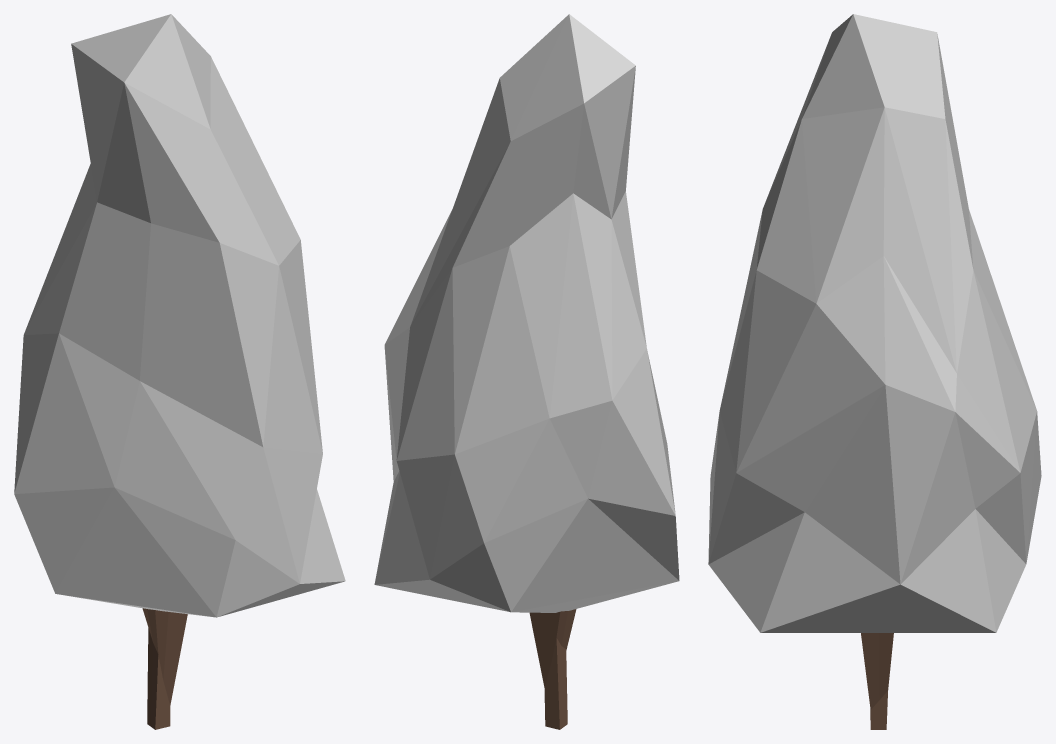
The model's file is Tree_20_White.fbx.
3 renders of one model, left to right at view 1: azimuth 30°, elevation 25°; view 2: azimuth 150°, elevation 25°; view 3: azimuth 270°, elevation 25°, orthographic. The views are drawn at different scales.
Parts seen in each view (by area): view 1: Tree_20_White_Part_1, Tree_20_White_Part_2; view 2: Tree_20_White_Part_1, Tree_20_White_Part_2; view 3: Tree_20_White_Part_1, Tree_20_White_Part_2.
Part boxes in pixels (left/top/right/bottom): Tree_20_White_Part_1: left=14, top=14, right=345, bottom=617; Tree_20_White_Part_2: left=142, top=608, right=187, bottom=729; Tree_20_White_Part_1: left=374, top=14, right=679, bottom=612; Tree_20_White_Part_2: left=529, top=609, right=576, bottom=729; Tree_20_White_Part_1: left=708, top=14, right=1041, bottom=632; Tree_20_White_Part_2: left=861, top=633, right=893, bottom=729.
Bounding box in the file's own units: 332 × 789 × 334.
